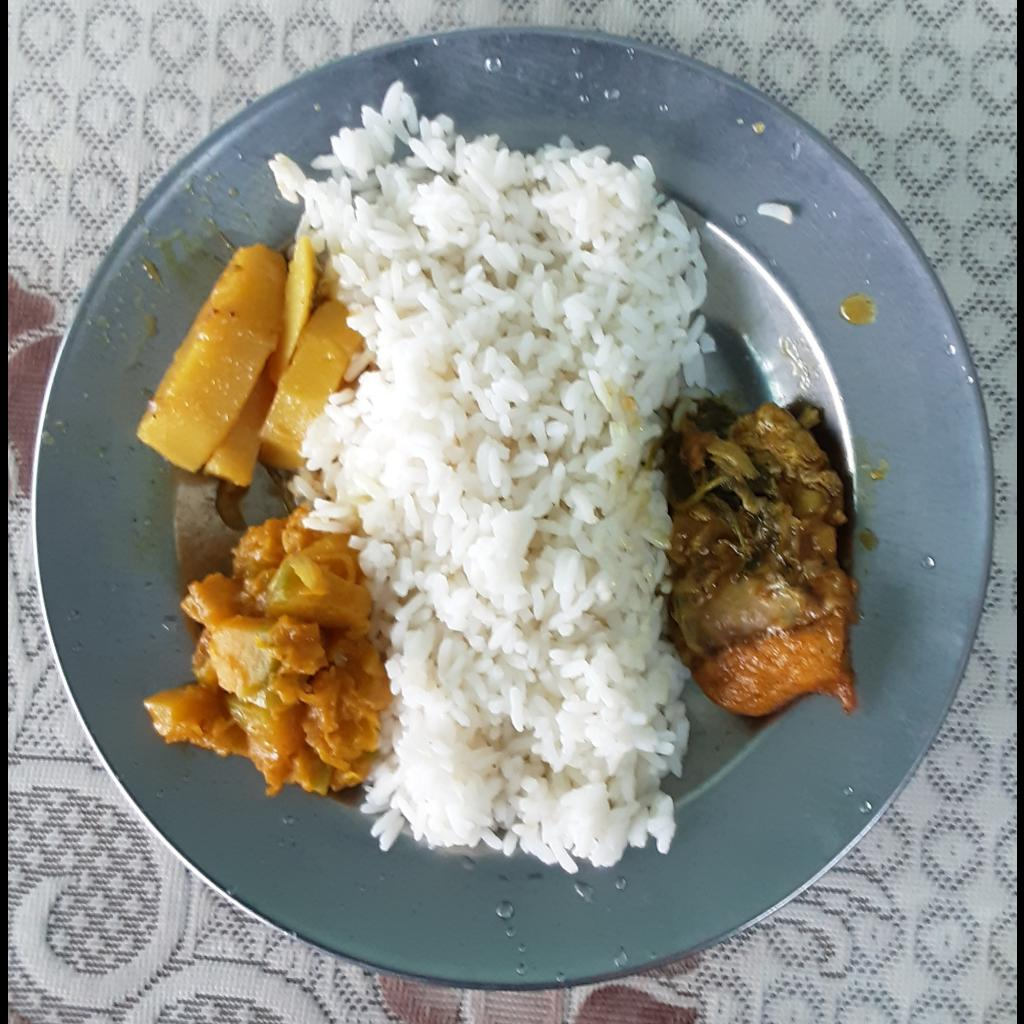fish: (664, 400, 858, 720)
kumra-vaji: (147, 508, 389, 795)
potato: (134, 233, 359, 478)
rice: (271, 84, 709, 878), (753, 192, 795, 225)
